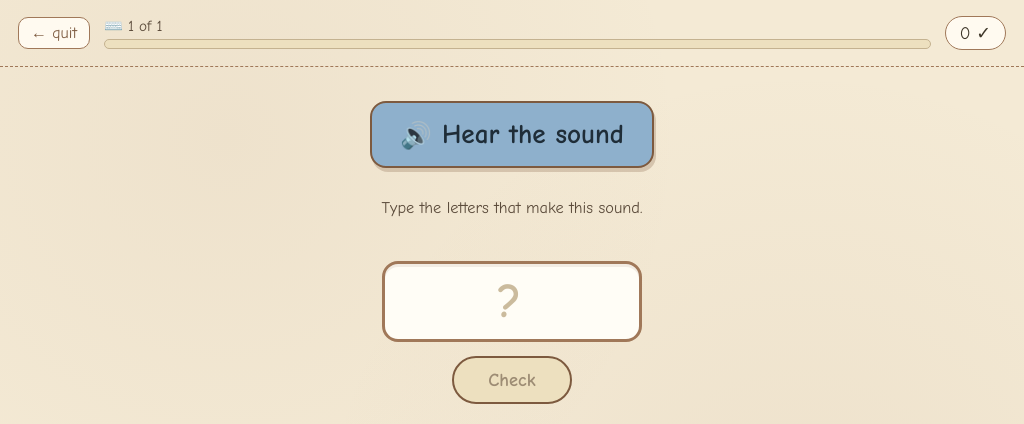
PhonicsGame — type-it mode › strips characters that are not letters so a stray key cannot fail an item
The width and height of the screenshot is (1024, 424).
Step 1. Type "s4h!" into the field named "type the letters" → (512, 302), box [382,261,642,342]
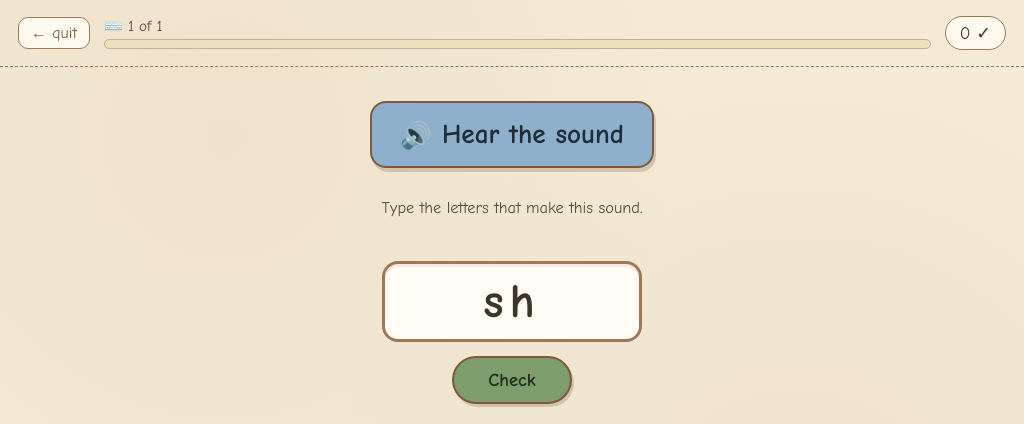
expect the field named "type the letters" holds "sh": met, box [382,261,642,342]
